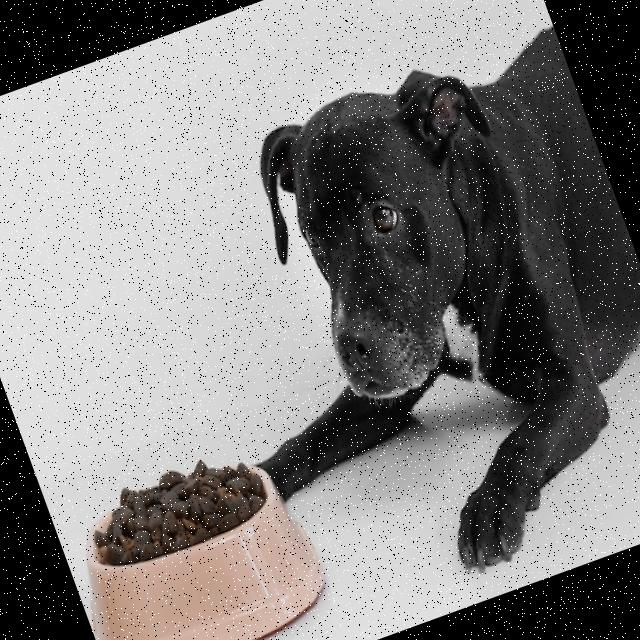Dog: (149, 19, 640, 631)
